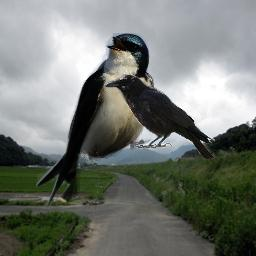Crow: (104, 74, 215, 159)
Swallow: (36, 33, 154, 210)
